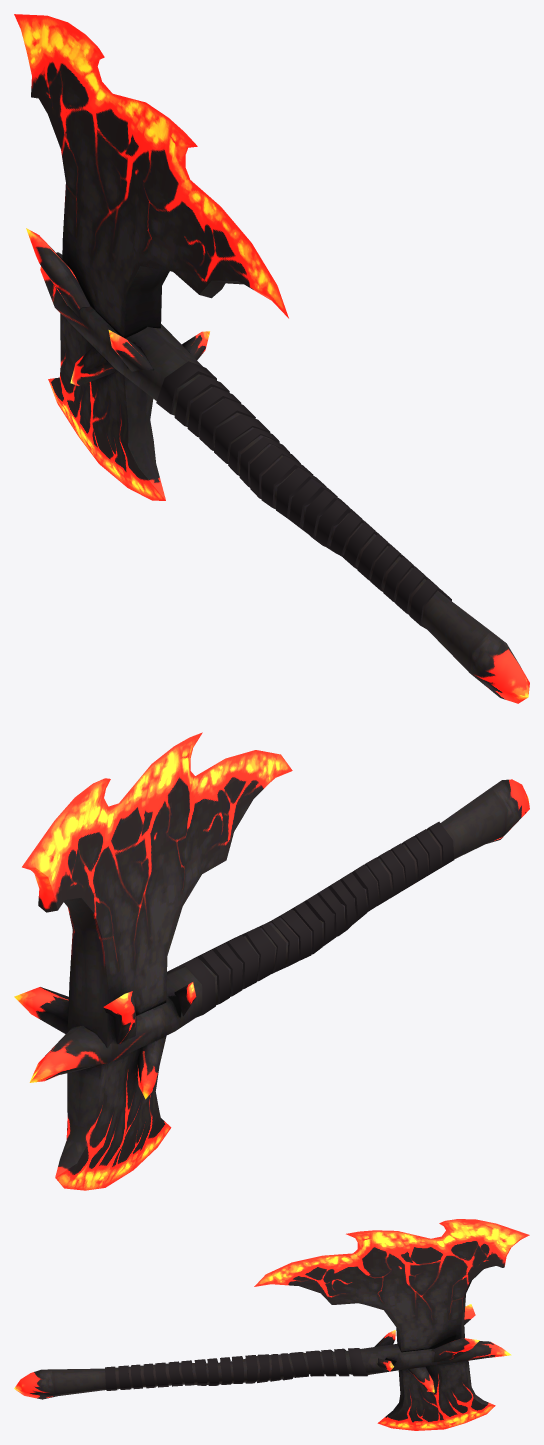
Rendered from sword-volcano.glb.
The picture shows the model from 3 angles, top to bottom: view 1: azimuth 30°, elevation 25°; view 2: azimuth 150°, elevation 25°; view 3: azimuth 270°, elevation 25°; orthographic projection. The views are drawn at different scales.
Visible parts, largest first — view 1: c_rift_fire_axe.qc_skeleton; view 2: c_rift_fire_axe.qc_skeleton; view 3: c_rift_fire_axe.qc_skeleton.
Boxes of the visible parts, left/top/right/bottom form: c_rift_fire_axe.qc_skeleton: left=14, top=14, right=529, bottom=703; c_rift_fire_axe.qc_skeleton: left=14, top=732, right=529, bottom=1190; c_rift_fire_axe.qc_skeleton: left=14, top=1219, right=529, bottom=1430.
Bounding box in the file's own units: 5.23 × 19.68 × 43.41.
1 material, 1 textured.
